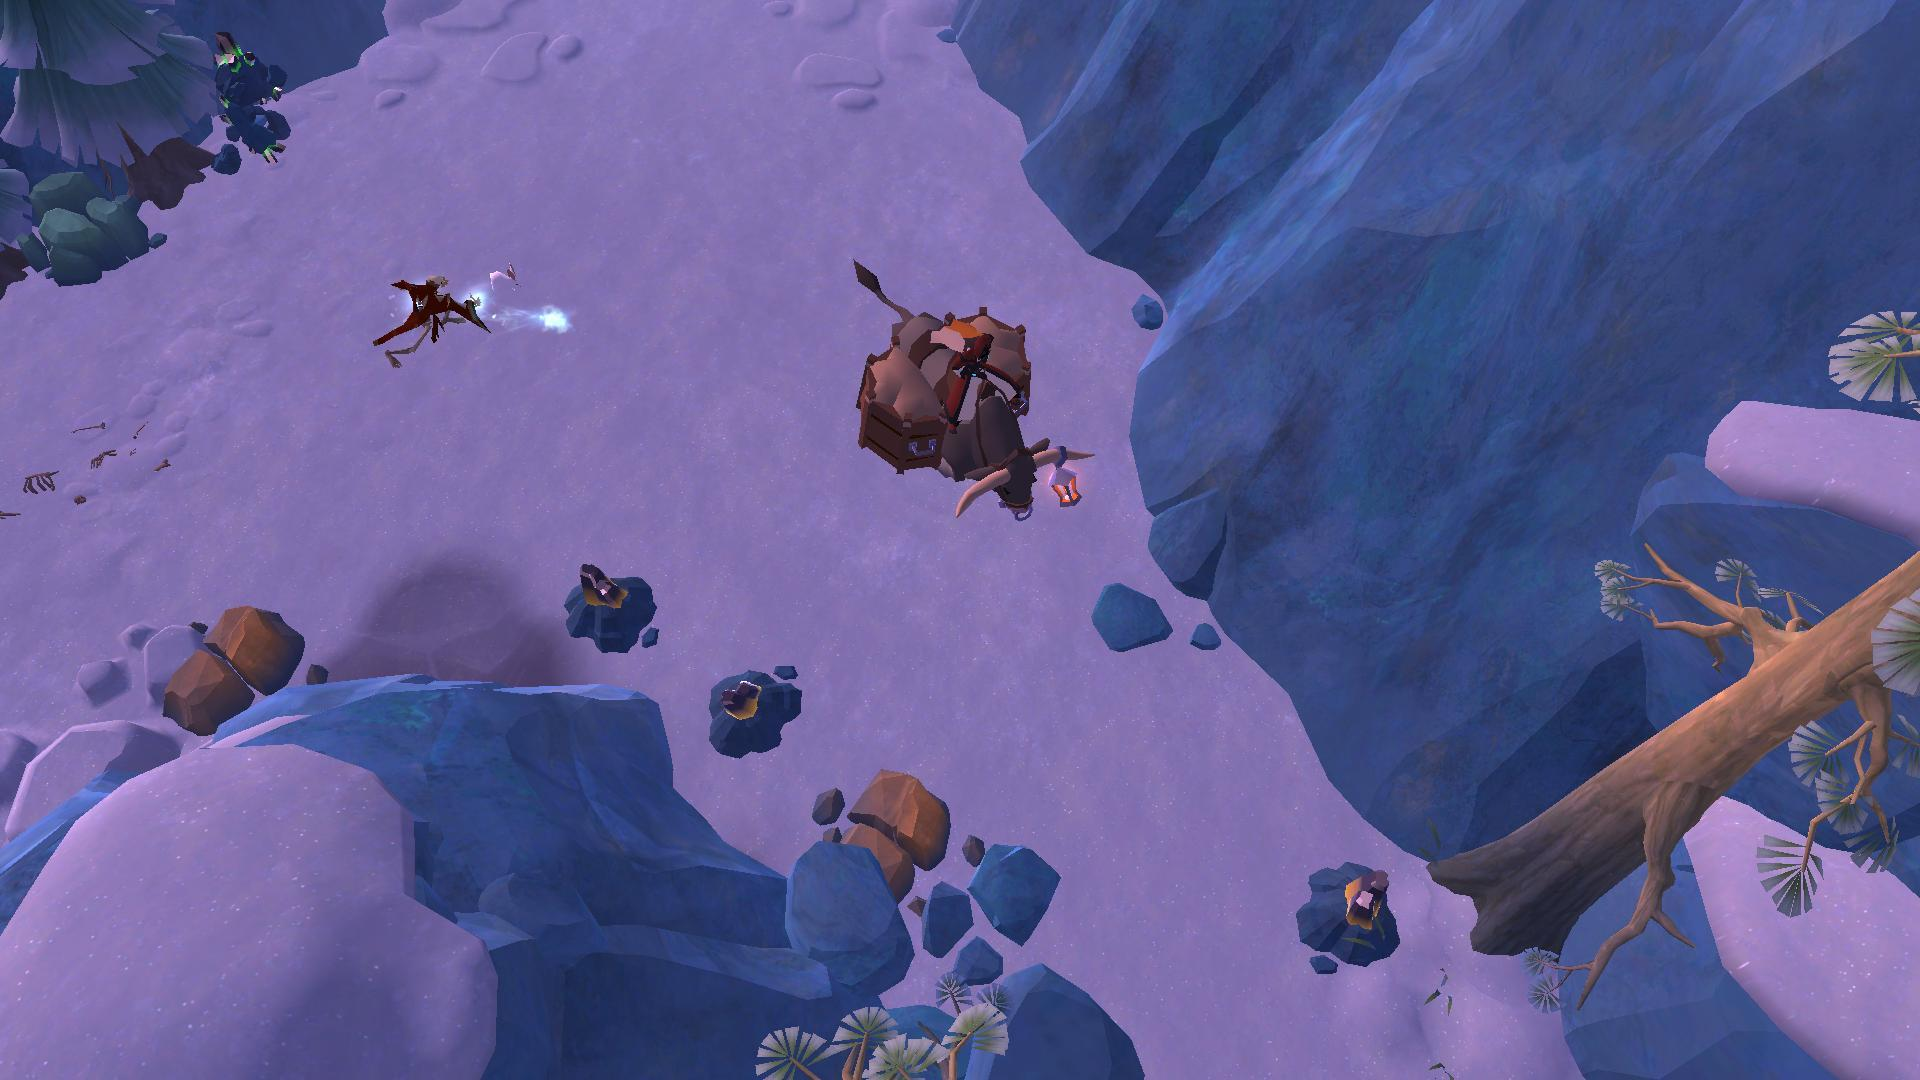enemy_factionUndead: (368, 270, 493, 369)
